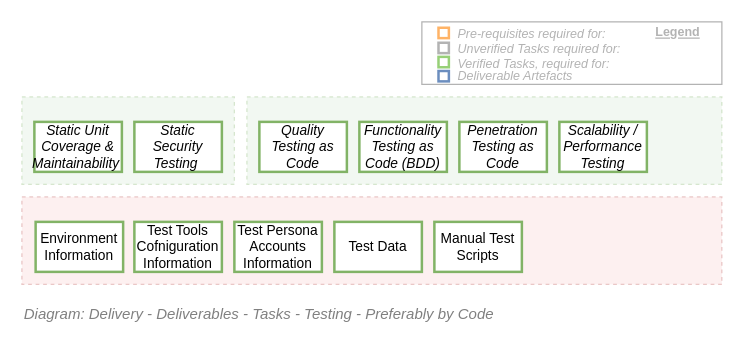
Image size: 744x349. Some labels were removed from this diagram. Here are the shapes that lost their labels. From the top down, the box of each, then its label:
(21, 96, 234, 184): Static Quality Assurance
(246, 96, 722, 184): Dynamic Quality & Functionality Assurance
(21, 196, 722, 284): Manual Testing
